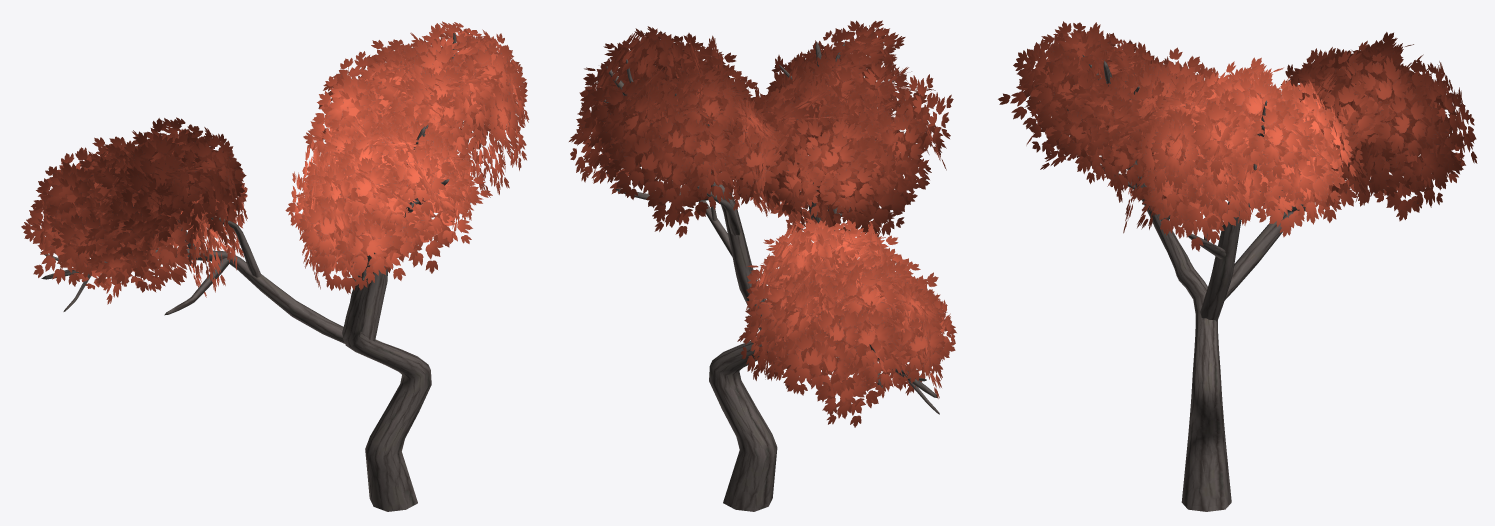
File: MapleTree_2.glb
3 renders of one model, left to right at view 1: azimuth 30°, elevation 25°; view 2: azimuth 150°, elevation 25°; view 3: azimuth 270°, elevation 25°, orthographic. The views are drawn at different scales.
Parts seen in each view (by area): view 1: MapleTree_2; view 2: MapleTree_2; view 3: MapleTree_2.
Boxes of the visible parts, x1=… form: MapleTree_2: x1=21, y1=21, x2=529, y2=511; MapleTree_2: x1=569, y1=20, x2=956, y2=511; MapleTree_2: x1=998, y1=21, x2=1477, y2=511.
Size of the model in its own units: 6.7 by 6.71 by 6.24.
Materials: 2 (2 with a texture image).
